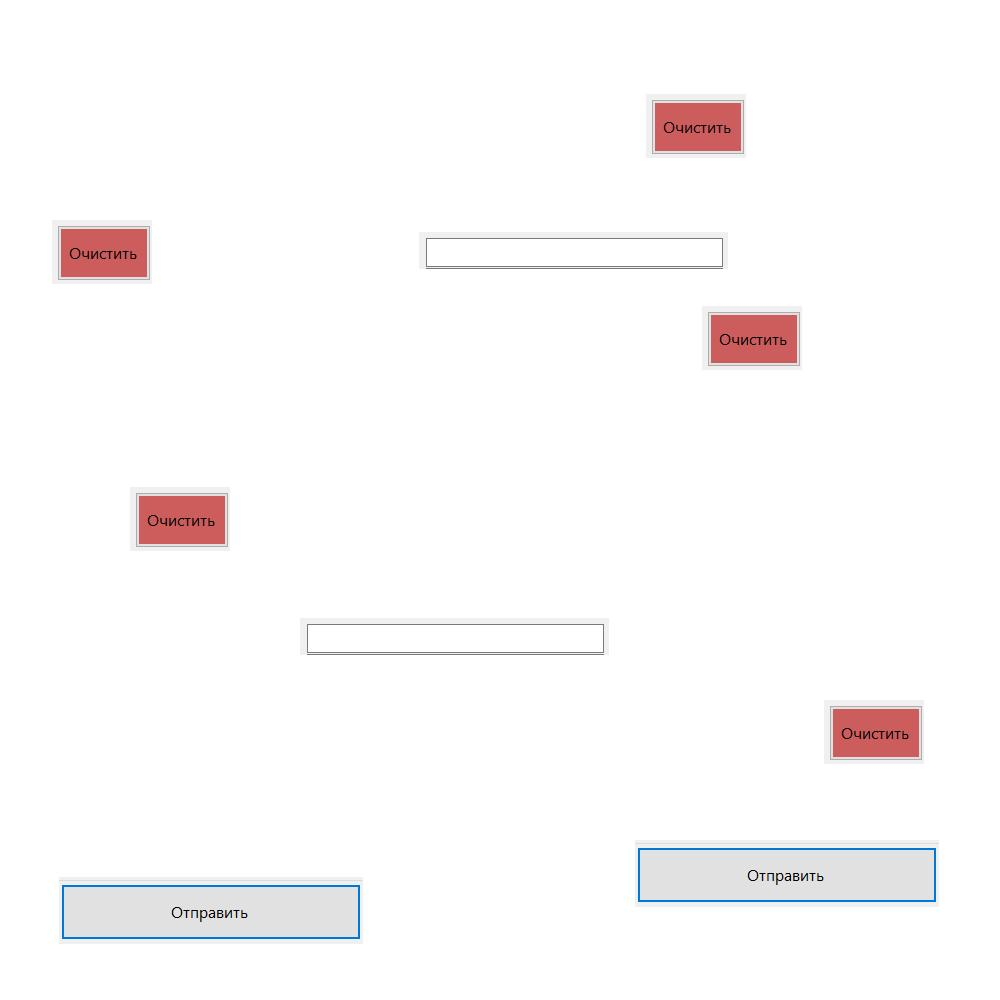Button: (59, 877, 363, 944), (635, 840, 939, 907), (646, 94, 746, 158), (52, 220, 152, 284), (824, 700, 924, 764), (130, 487, 230, 551), (702, 306, 802, 370)
EditText-: (419, 232, 728, 269), (300, 618, 609, 655)
